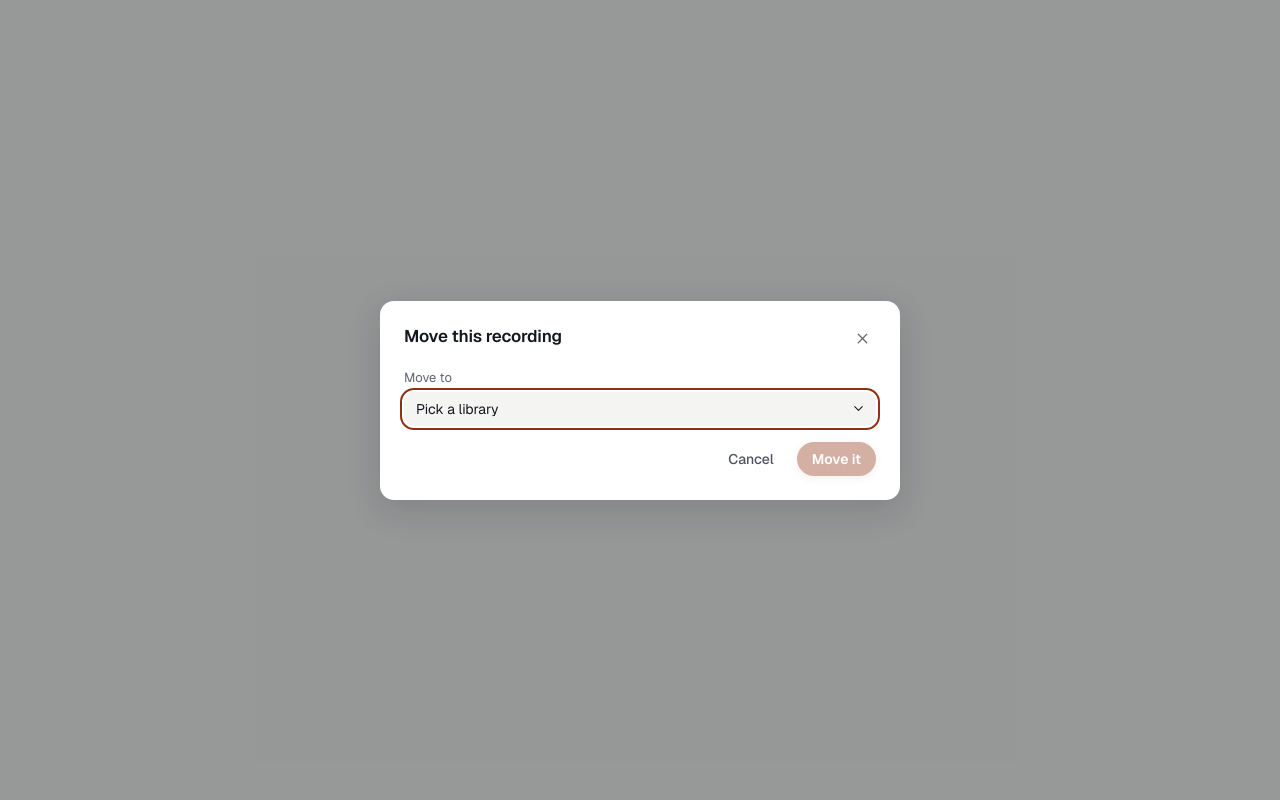
what it says will happen › names who gains access and who loses it
The image size is (1280, 800).
Click the dropdown named "Move to": (457, 408) top-left (404, 392), bottom-right (876, 426)
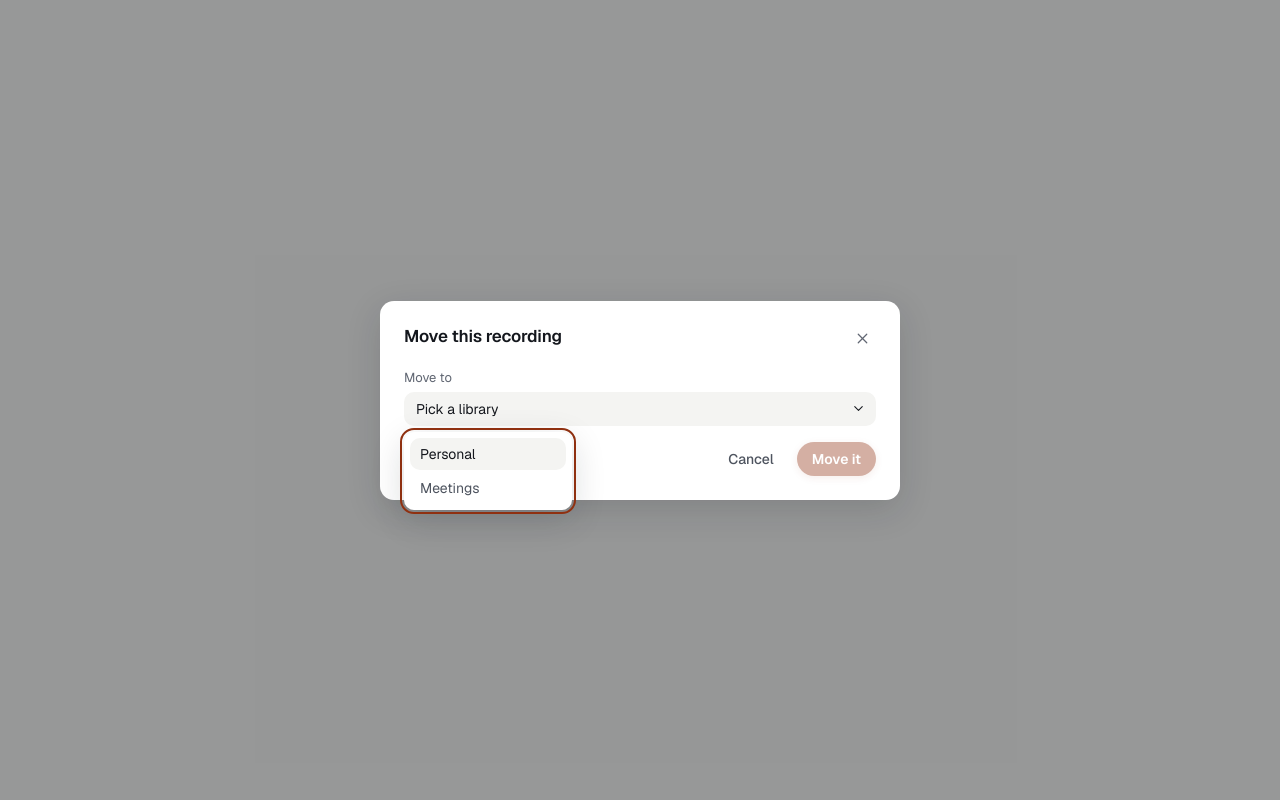
Click the option "Personal": (488, 454) top-left (410, 438), bottom-right (566, 470)
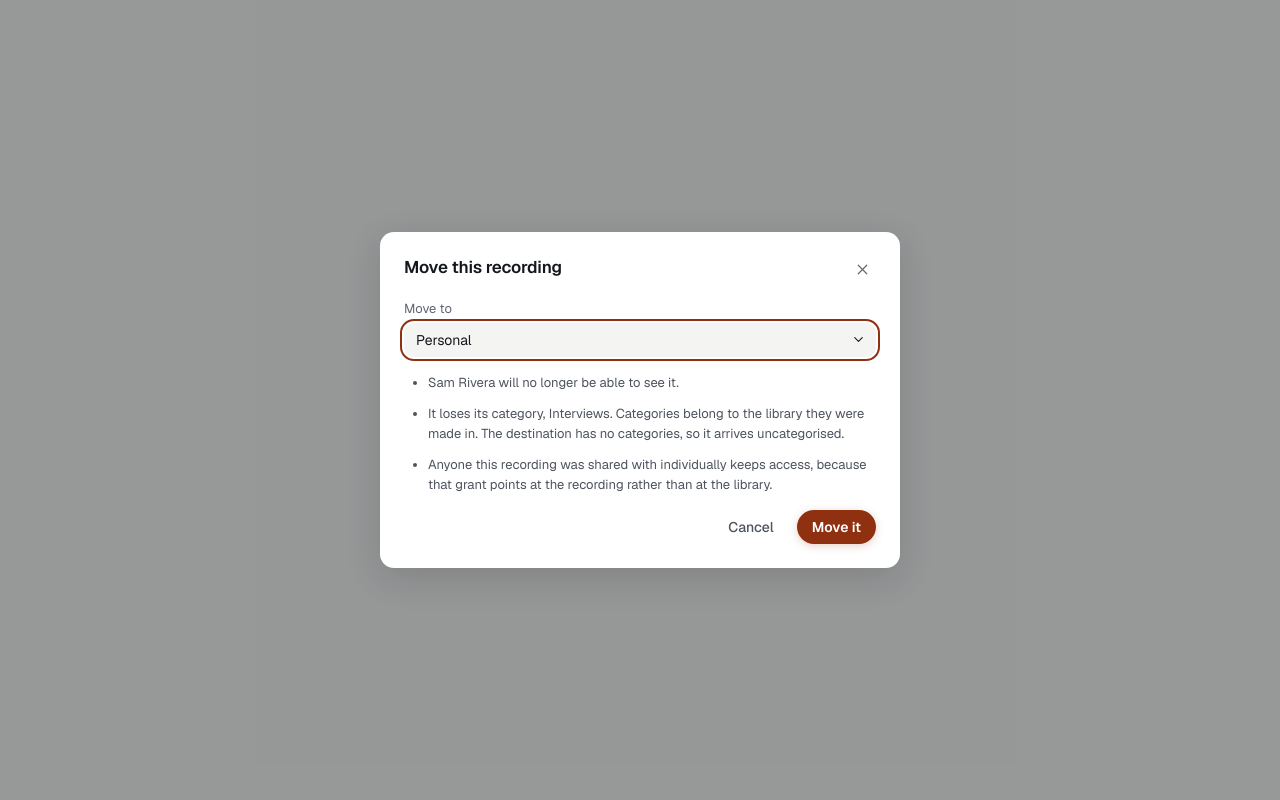
expect the list item "Sam Rivera will no longer be able to see it." is shown: met, box top-left (428, 374), bottom-right (679, 391)
